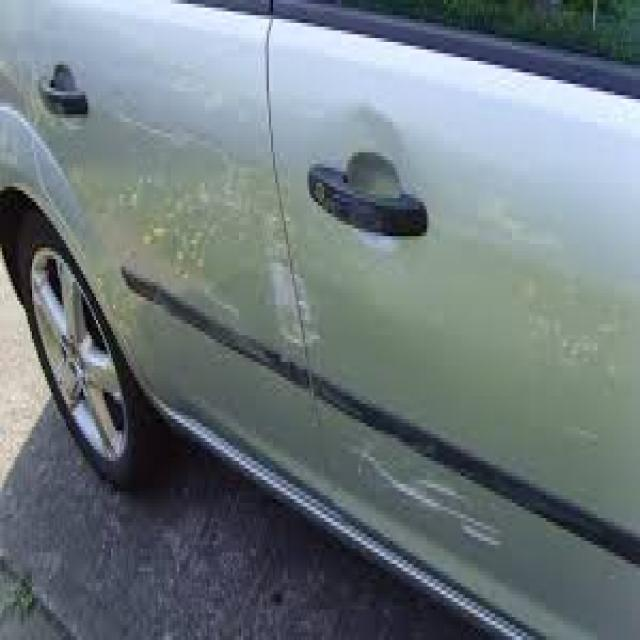minor: (333, 404, 541, 575), (240, 182, 319, 368)
